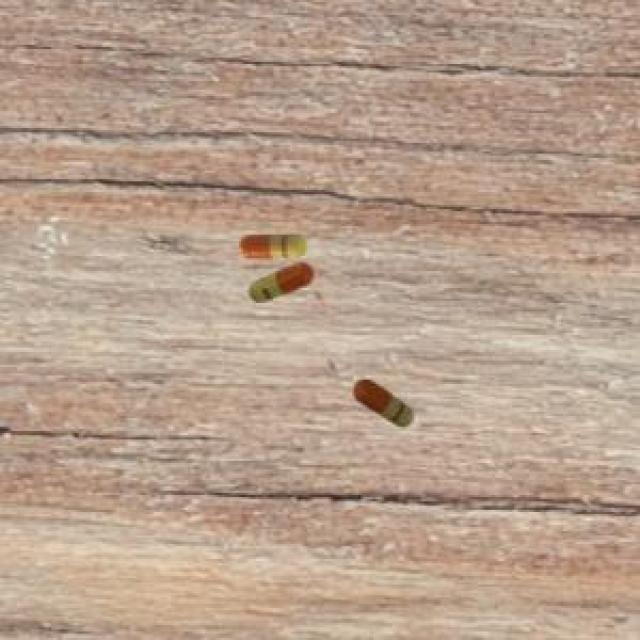Alaxan: (228, 217, 323, 319), (347, 362, 419, 441)
